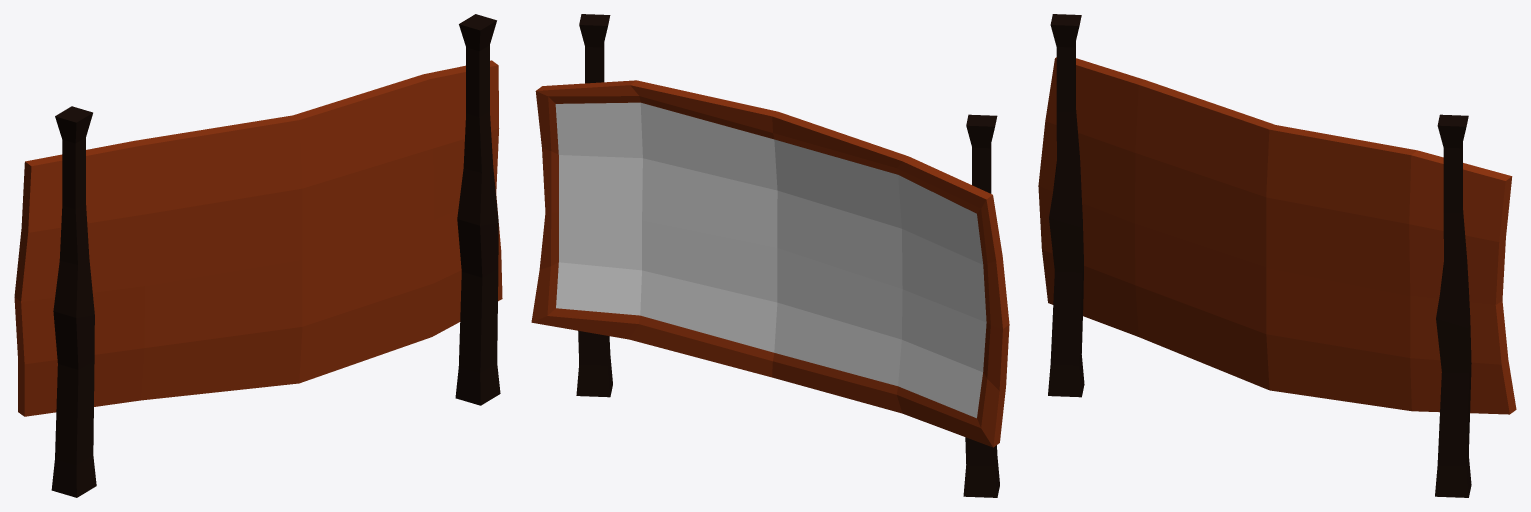
File: cuadro.FBX
3 views of the same model, side by side, from view 1: azimuth 30°, elevation 25°; view 2: azimuth 150°, elevation 25°; view 3: azimuth 330°, elevation 25° (orthographic).
Parts seen in each view (by area): view 1: Box002, Box001, Box003; view 2: plano_dibujo, Box002, Box001, Box003; view 3: Box002, Box001, Box003.
Boxes of the visible parts, <box> form: Box002: <box>14,60,502,416</box>; Box001: <box>455,14,500,405</box>; Box003: <box>51,106,96,497</box>; plano_dibujo: <box>555,102,986,418</box>; Box002: <box>531,80,1009,447</box>; Box001: <box>576,14,612,397</box>; Box003: <box>963,114,999,497</box>; Box002: <box>1038,57,1516,414</box>; Box001: <box>1435,114,1471,497</box>; Box003: <box>1048,14,1084,397</box>.
Size of the model in its own units: 143 by 107 by 20.36.
